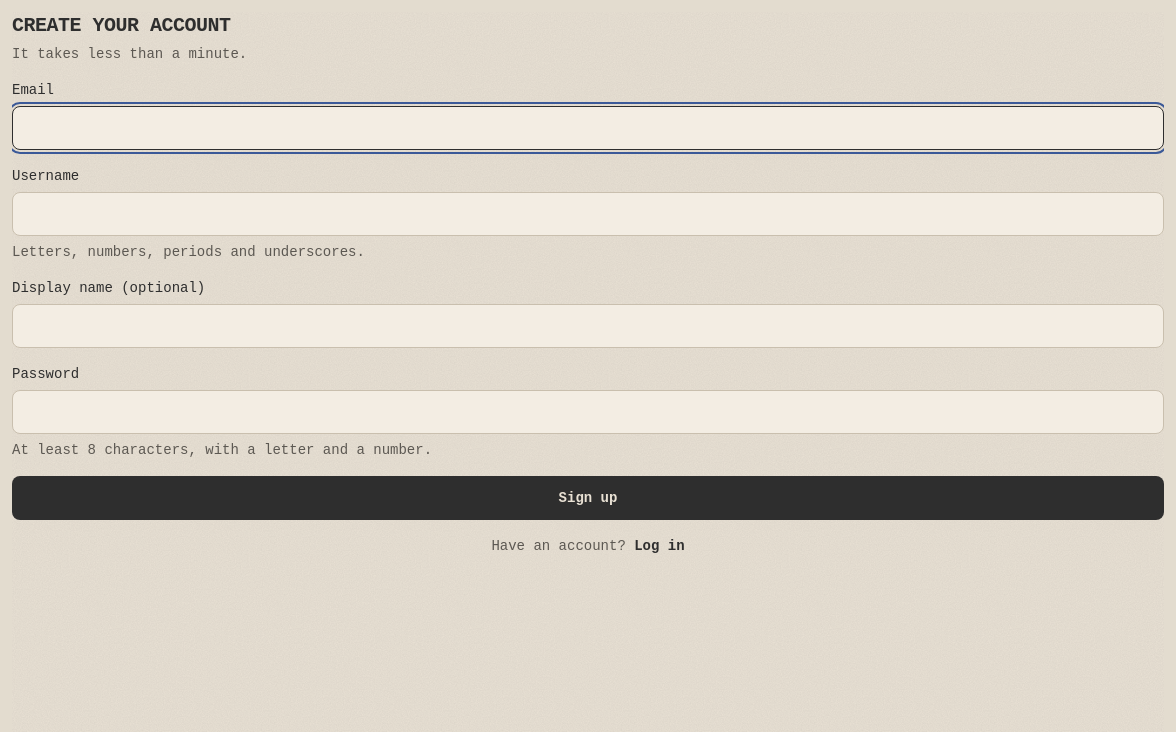
Test: RegisterForm › shows server-side field errors
The image size is (1176, 732).
In the field labelled "Email": (588, 128) [12,106,1164,150], type "a@b.co"
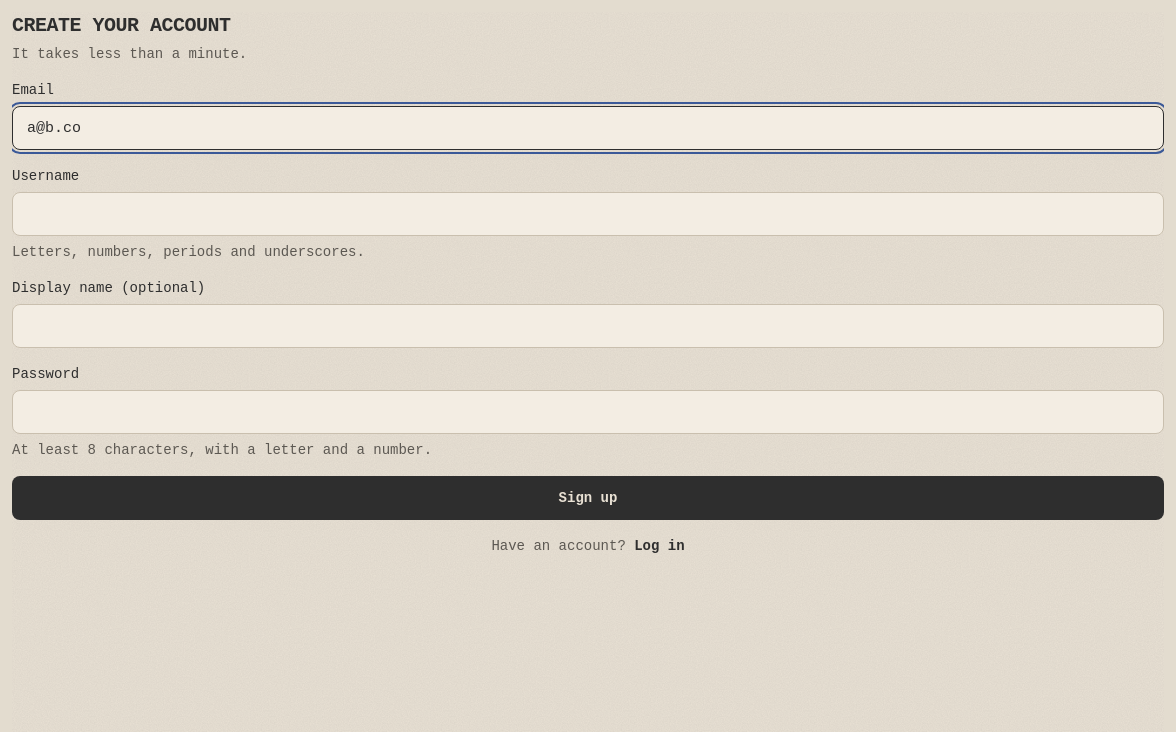
In the field labelled "Username": (588, 214) [12,192,1164,236], type "taken"
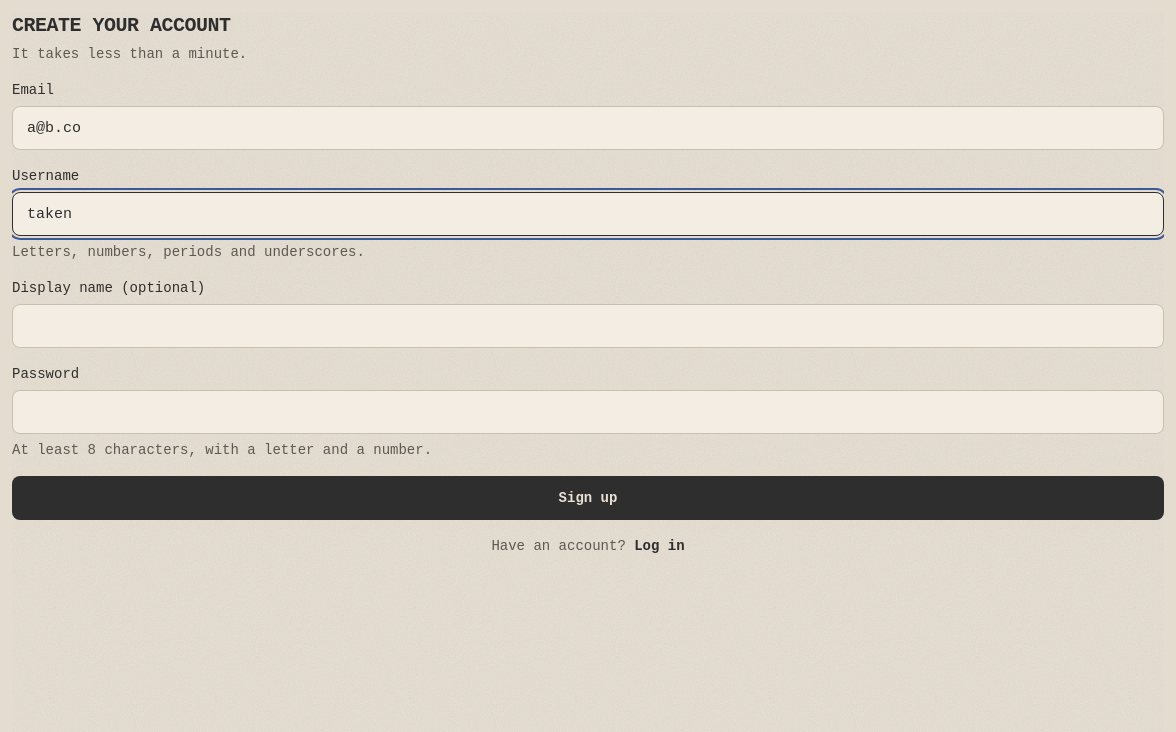
In the password field labelled "Password": (588, 412) [12,390,1164,434], type "secret123"
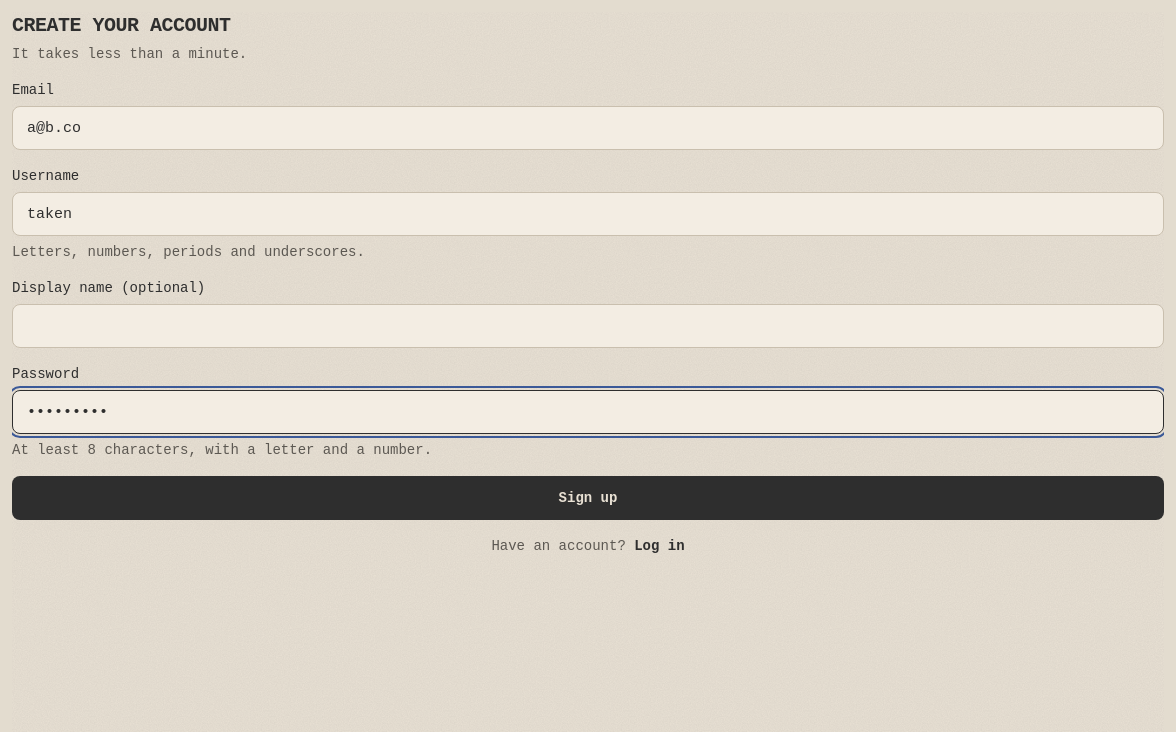
Click the button "Sign up": click(588, 498) [12,476,1164,520]
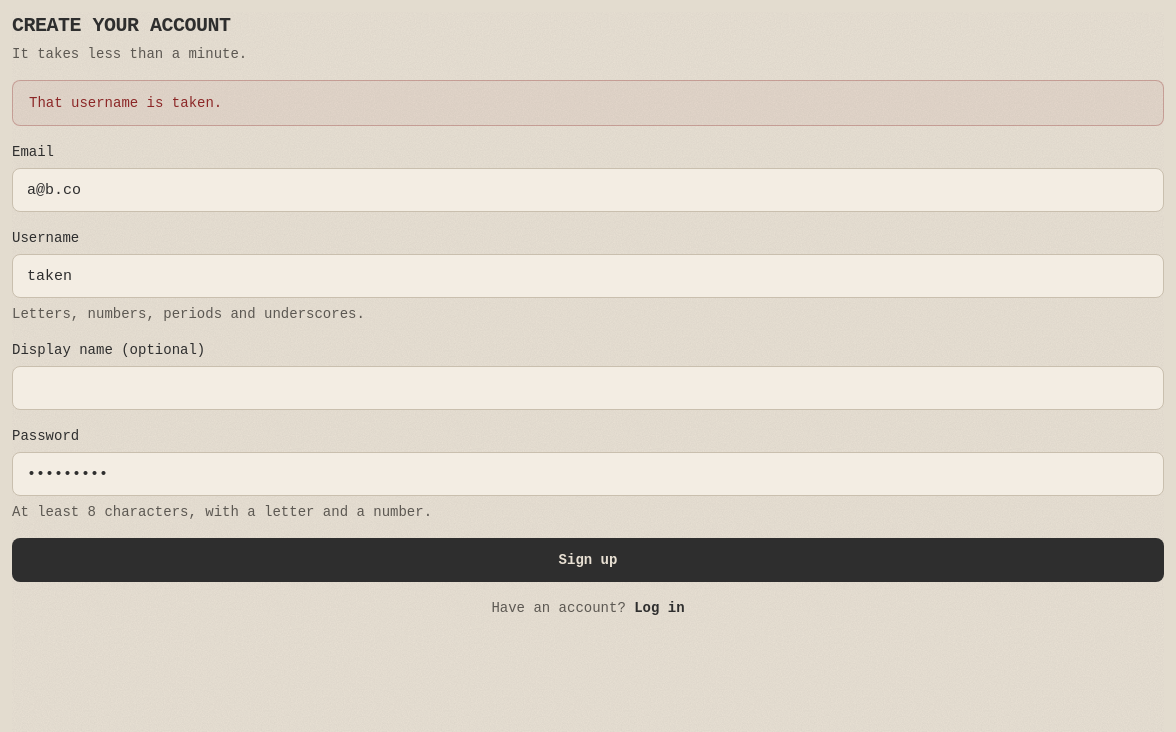
Expected: the message reads "That username is taken.", [29,95,222,111]
